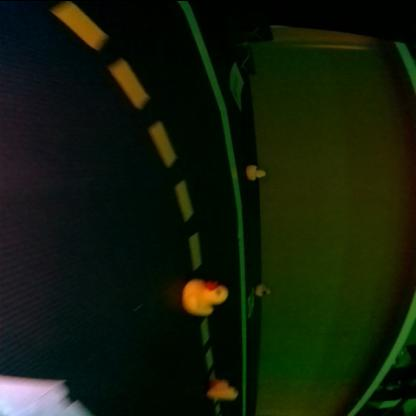Duckie: (183, 279, 230, 313), (207, 379, 238, 399), (246, 164, 266, 180), (256, 283, 271, 294)
